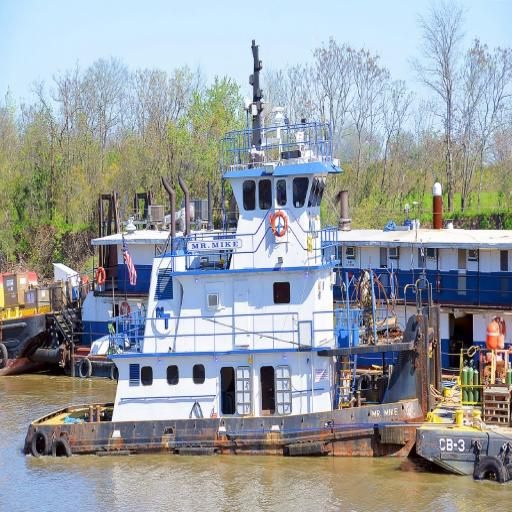tugboat: (22, 101, 450, 470)
